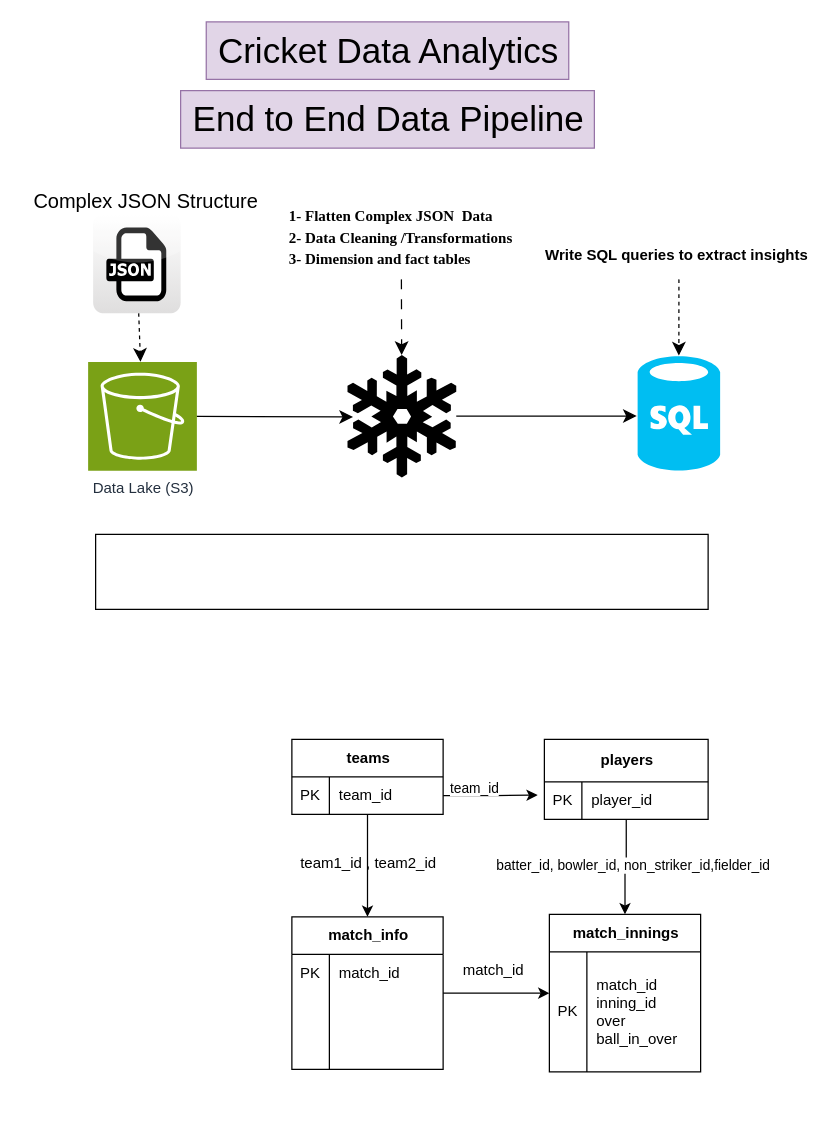
Some shapes in this 836 by 1125 pixel diagram are drawn without their labels. The shapes that lost their labels are listed below. From the top down, each one's centre as x and y in pixels, then its label:
At point (401, 415): "Data Warehouse(Snowflake)".
At point (401, 571): "Automate the full pipeline using Snowpipe,Tasks and streams".
